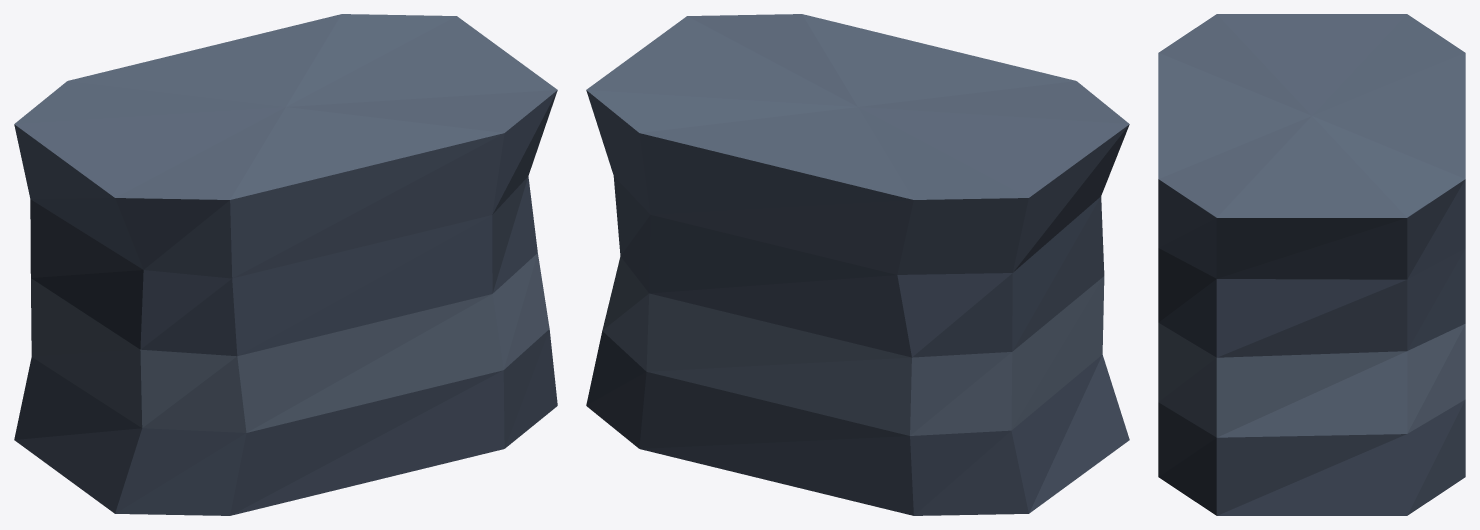
Rendered from wall_z1_rock_mid.glb.
The picture shows the model from 3 angles, left to right: view 1: azimuth 30°, elevation 25°; view 2: azimuth 150°, elevation 25°; view 3: azimuth 270°, elevation 25°; orthographic projection. The views are drawn at different scales.
Parts seen in each view (by area): view 1: wall_z1_rock_mid; view 2: wall_z1_rock_mid; view 3: wall_z1_rock_mid.
Part boxes in pixels (x1,y1,x2,y2): wall_z1_rock_mid: (14,14,557,515); wall_z1_rock_mid: (586,14,1129,515); wall_z1_rock_mid: (1158,14,1465,515).
Size of the model in its own units: 4.4 by 3 by 2.8.
